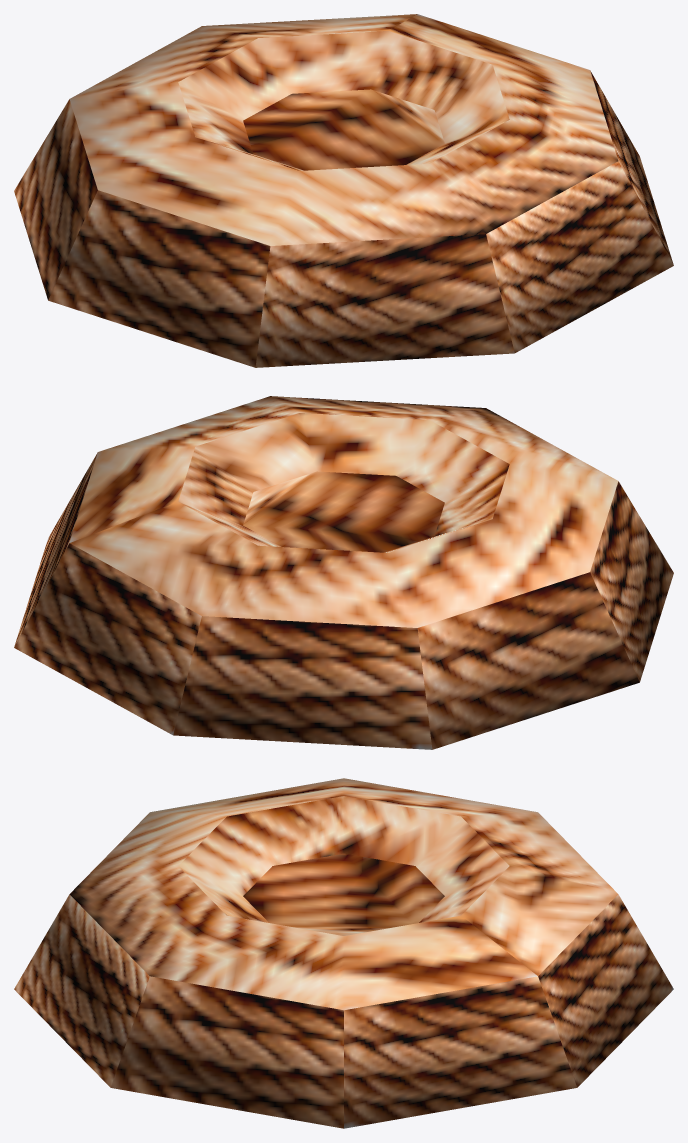
File: Ropes.fbx
3 views of the same model, one above another, from view 1: azimuth 30°, elevation 25°; view 2: azimuth 150°, elevation 25°; view 3: azimuth 270°, elevation 25° (orthographic). The views are drawn at different scales.
Parts seen in each view (by area): view 1: Ropes; view 2: Ropes; view 3: Ropes.
Boxes of the visible parts, box(x1,y1,x2,y2) form: Ropes: box(14, 14, 673, 367); Ropes: box(14, 396, 673, 749); Ropes: box(14, 778, 673, 1128).
Bounding box in the file's own units: 200 × 41.19 × 200.
